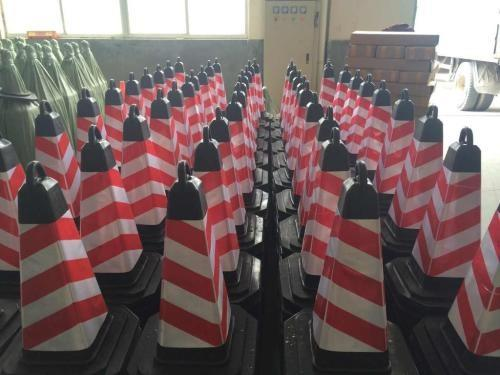cone_barrel: (4, 163, 111, 364), (306, 163, 391, 369), (151, 163, 233, 365), (73, 126, 143, 285), (414, 131, 486, 276), (297, 132, 351, 291), (446, 199, 498, 360), (189, 131, 240, 283), (388, 106, 443, 233), (115, 105, 162, 230), (27, 99, 78, 197), (374, 87, 416, 188), (363, 80, 391, 165), (70, 87, 107, 144), (318, 59, 335, 102), (123, 70, 140, 108)
